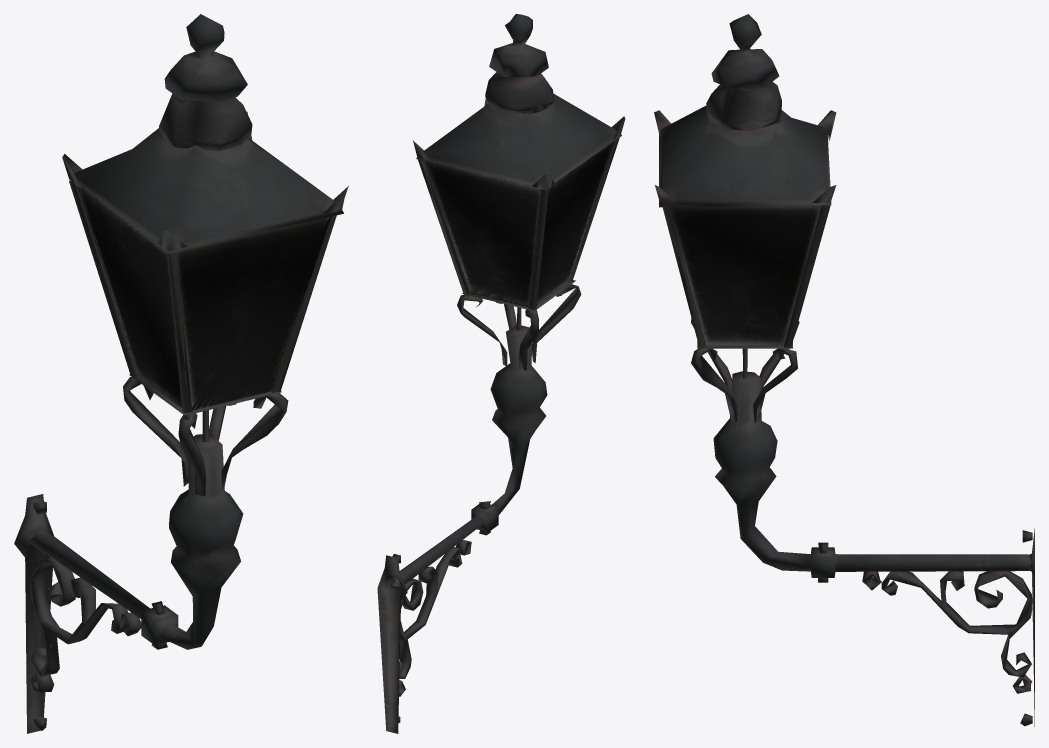
Rendered from street_lamp_02.glb.
3 renders of one model, left to right at view 1: azimuth 30°, elevation 25°; view 2: azimuth 150°, elevation 25°; view 3: azimuth 270°, elevation 25°, orthographic. The views are drawn at different scales.
Visible parts, largest first — view 1: street_lamp_02; view 2: street_lamp_02; view 3: street_lamp_02.
Part boxes in pixels (x1,y1,x2,y2): street_lamp_02: [14, 14, 348, 733]; street_lamp_02: [377, 14, 625, 733]; street_lamp_02: [654, 14, 1034, 726].
Size of the model in its own units: 0.3857 by 1.67 by 0.8067.
2 materials, 2 textured.
